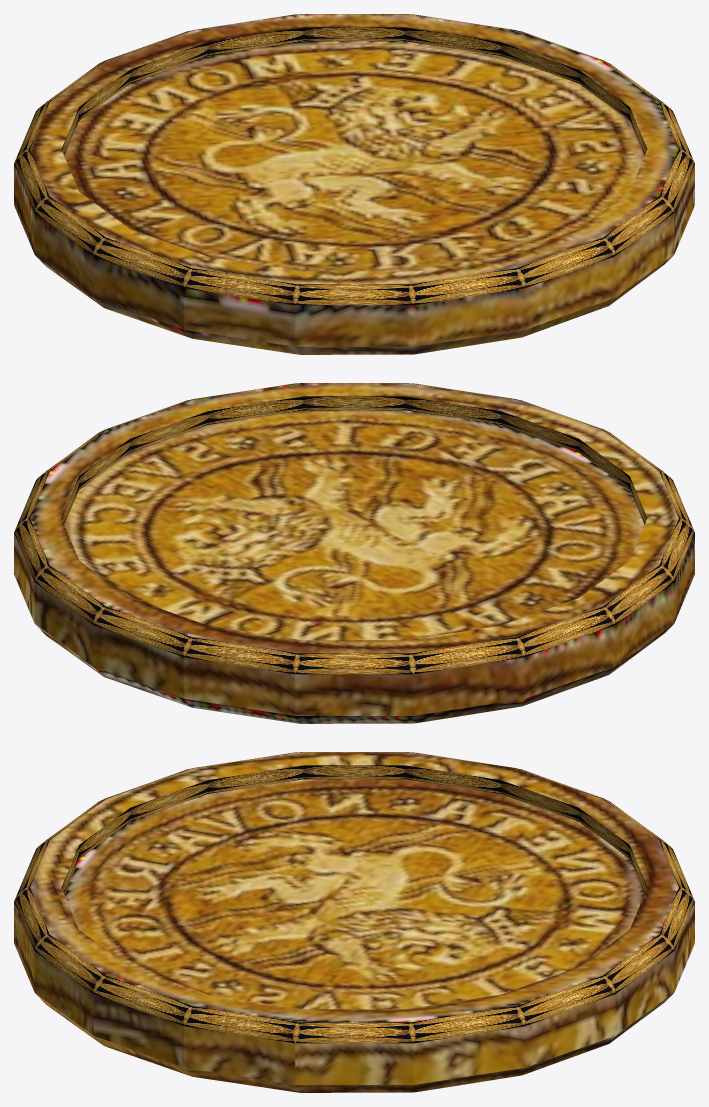
Rendered from coin.glb.
3 views of the same model, one above another, from view 1: azimuth 30°, elevation 25°; view 2: azimuth 150°, elevation 25°; view 3: azimuth 270°, elevation 25° (orthographic).
Visible parts, largest first — view 1: Cylinder; view 2: Cylinder; view 3: Cylinder.
Boxes of the visible parts, bbox=[...] form: Cylinder: bbox=[14, 14, 694, 354]; Cylinder: bbox=[14, 383, 694, 723]; Cylinder: bbox=[14, 752, 694, 1092].
Size of the model in its own units: 1.97 by 0.2274 by 2.
Materials: 2 (2 with a texture image).
